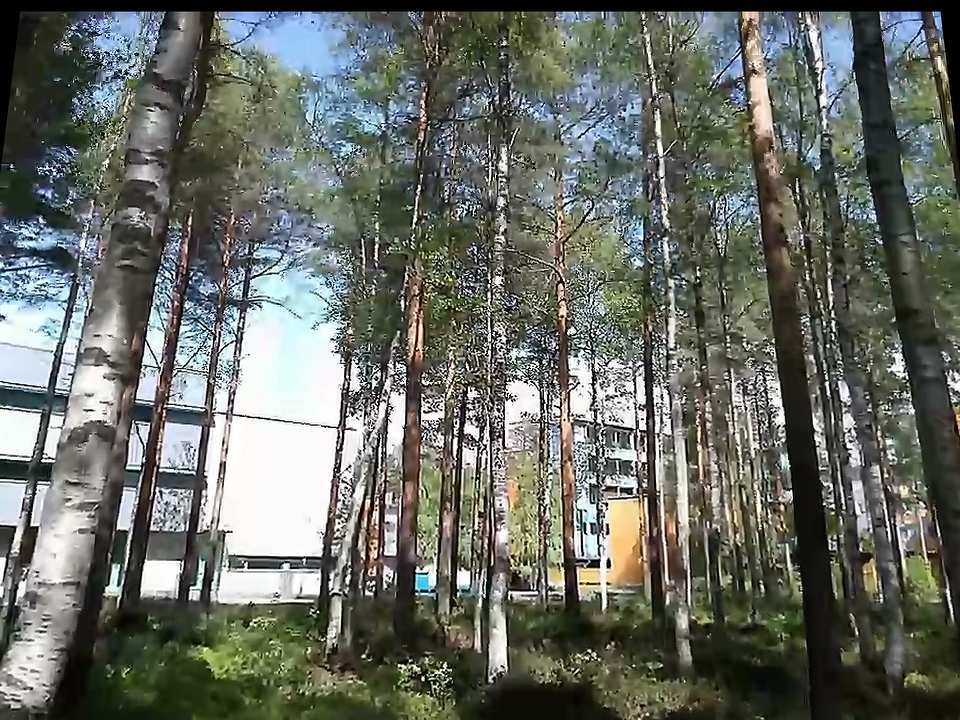branch: (250, 292, 303, 323), (565, 205, 595, 243)
trunk: (14, 399, 136, 605), (480, 119, 523, 692), (548, 207, 594, 620), (87, 165, 188, 294), (61, 283, 158, 414), (0, 602, 99, 708), (664, 395, 700, 664), (854, 135, 929, 264), (845, 9, 909, 159), (128, 11, 219, 103), (651, 202, 687, 411), (632, 25, 672, 213), (908, 388, 958, 535), (891, 308, 956, 399), (121, 94, 194, 175), (876, 248, 943, 322)
